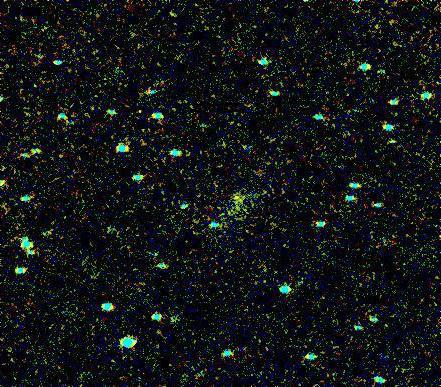star: (221, 179, 251, 209)
